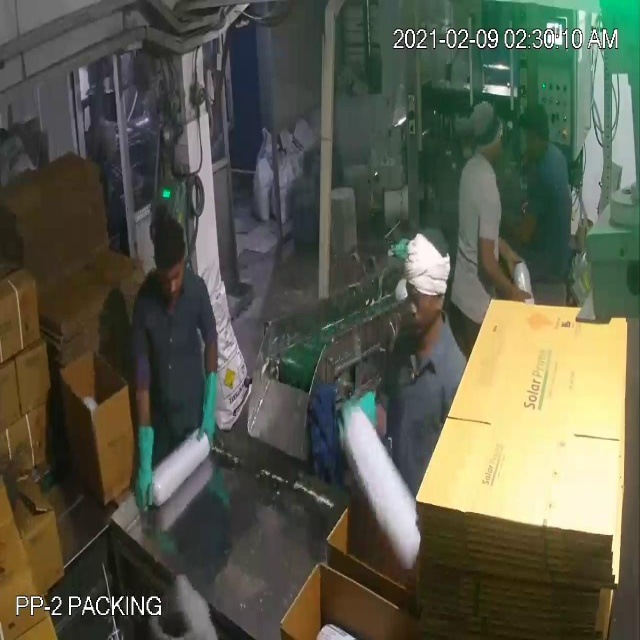Guantes: (327, 376, 392, 460), (192, 348, 232, 470), (127, 401, 166, 524)
Sin_guantes: (472, 231, 536, 304), (486, 223, 529, 281)
